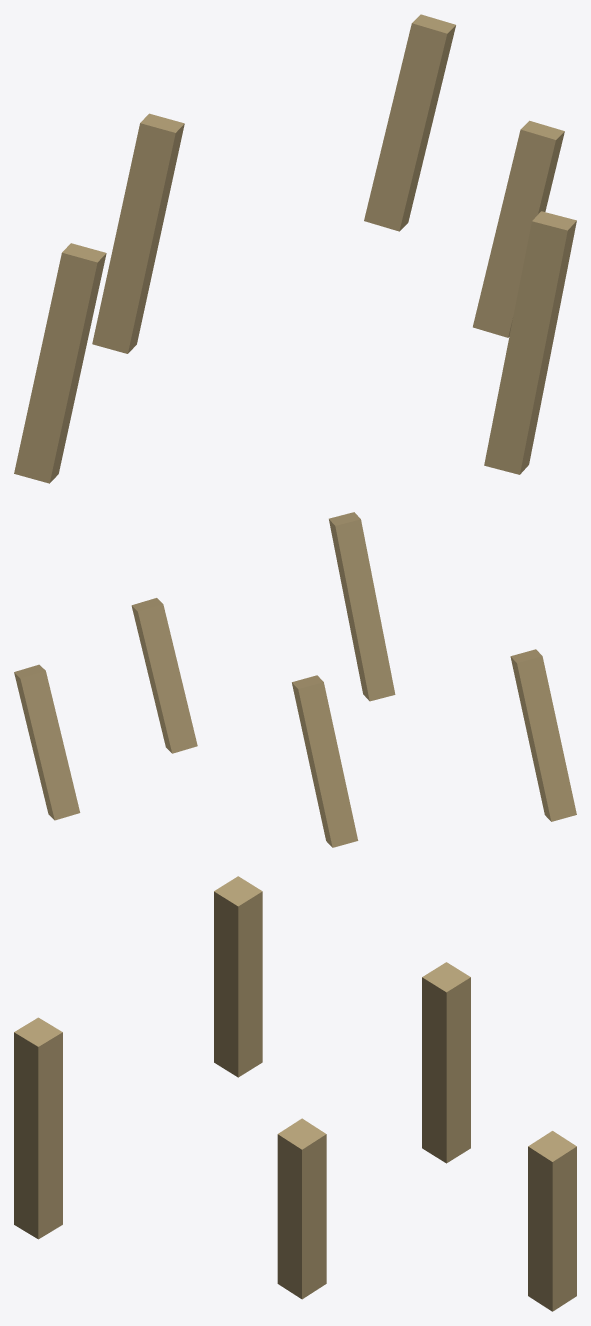
Rendered from crop_pea_spent.glb.
3 views of the same model, one above another, from view 1: azimuth 30°, elevation 25°; view 2: azimuth 150°, elevation 25°; view 3: azimuth 270°, elevation 25° (orthographic). The views are drawn at different scales.
Parts seen in each view (by area): view 1: crop_pea_spent; view 2: crop_pea_spent; view 3: crop_pea_spent.
Boxes of the visible parts, box(x1,y1,x2,y2) form: crop_pea_spent: box(14, 14, 576, 483); crop_pea_spent: box(14, 512, 576, 847); crop_pea_spent: box(14, 876, 576, 1311).
Bounding box in the file's own units: 0.3198 × 0.1216 × 0.2765.
